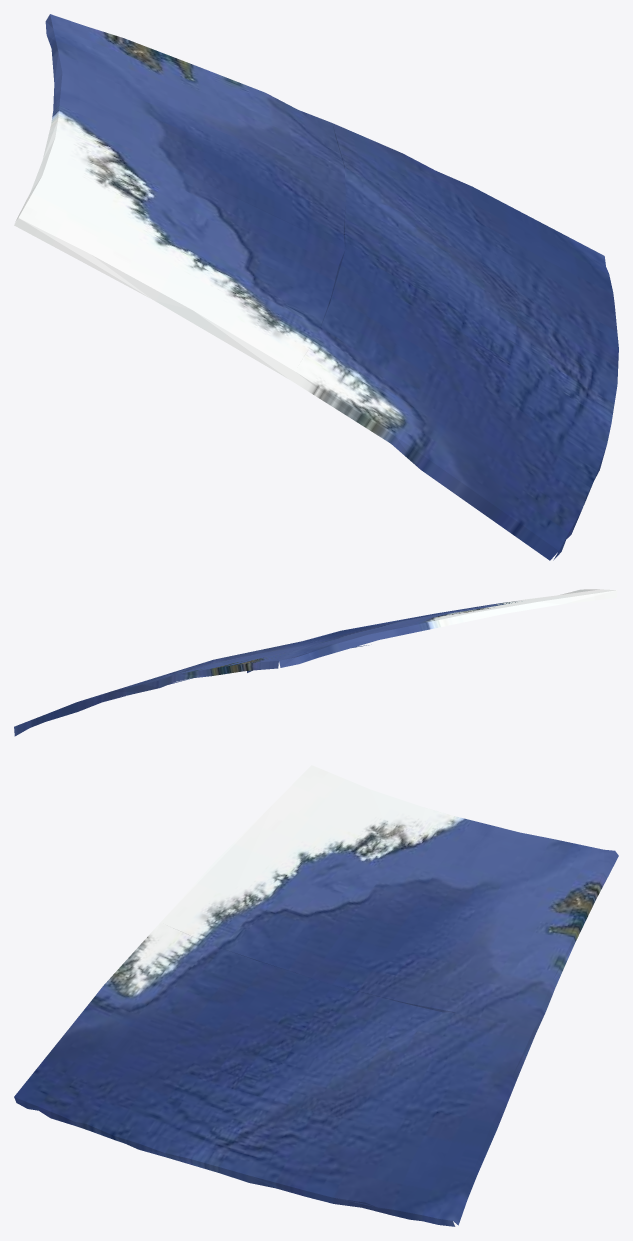
The picture shows the model from 3 angles, top to bottom: view 1: azimuth 30°, elevation 25°; view 2: azimuth 150°, elevation 25°; view 3: azimuth 270°, elevation 25°; orthographic projection. The views are drawn at different scales.
Bounding box in the file's own units: 1565562 × 620630 × 1591774.
1 material, 1 textured.
